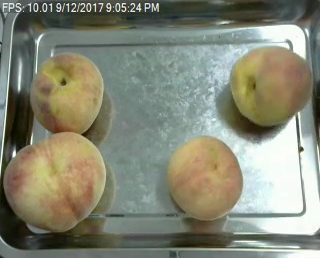Peach: (3, 132, 107, 234), (229, 44, 314, 127), (165, 135, 243, 220), (30, 52, 106, 135)
